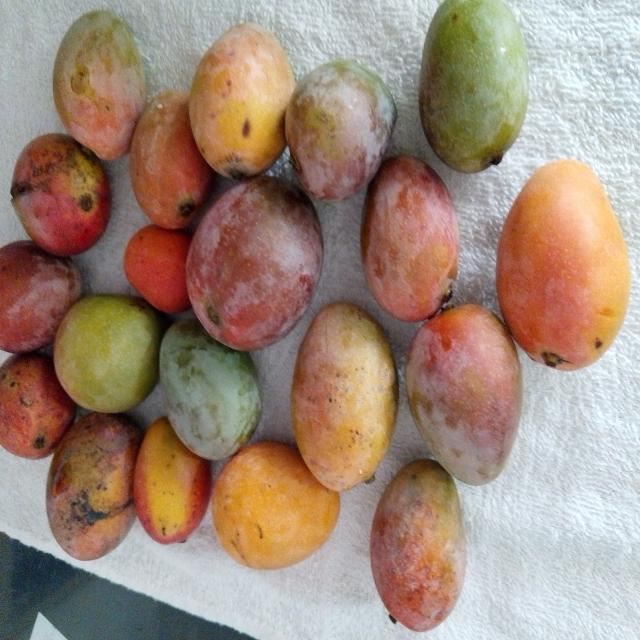mango: (497, 160, 630, 370), (187, 177, 323, 350), (406, 304, 522, 485), (291, 303, 398, 491), (420, 0, 528, 172), (371, 460, 466, 631), (189, 24, 294, 178), (361, 156, 459, 321), (212, 442, 339, 569), (286, 61, 396, 200), (160, 319, 261, 459), (47, 413, 142, 560), (53, 11, 146, 160), (54, 295, 162, 412), (11, 134, 111, 256), (130, 91, 214, 229), (134, 417, 211, 543), (0, 241, 82, 352), (0, 354, 75, 459), (119, 222, 194, 313)
